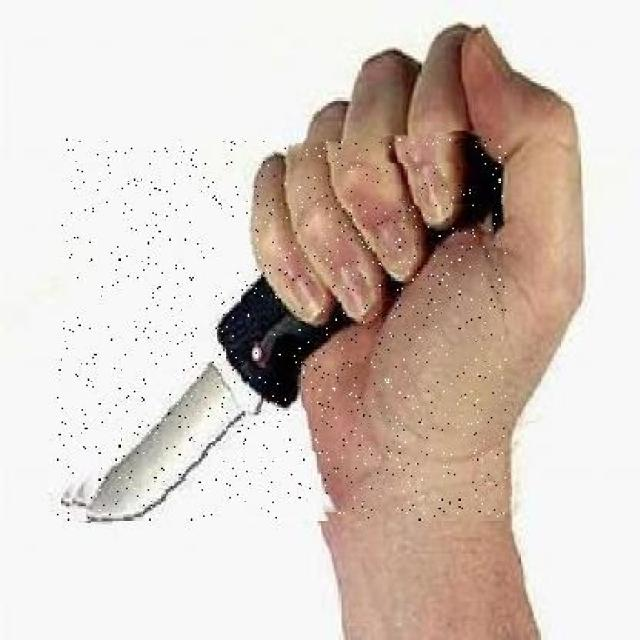knife: (58, 138, 507, 520)
